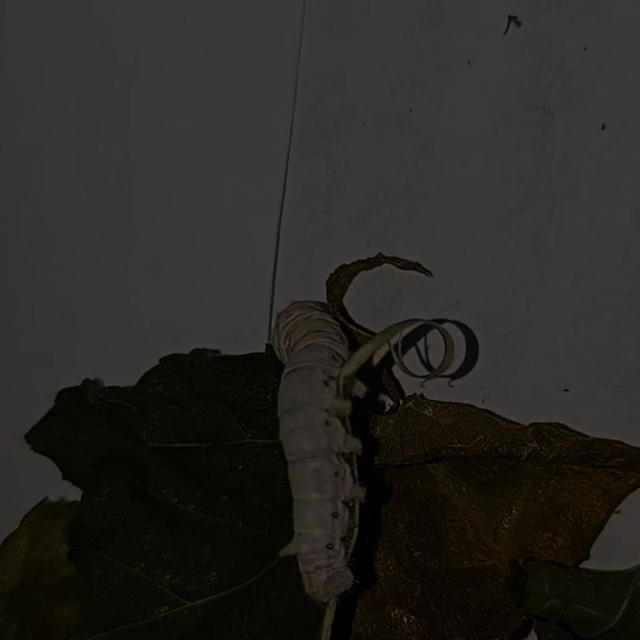Healthy: (248, 268, 394, 611)
